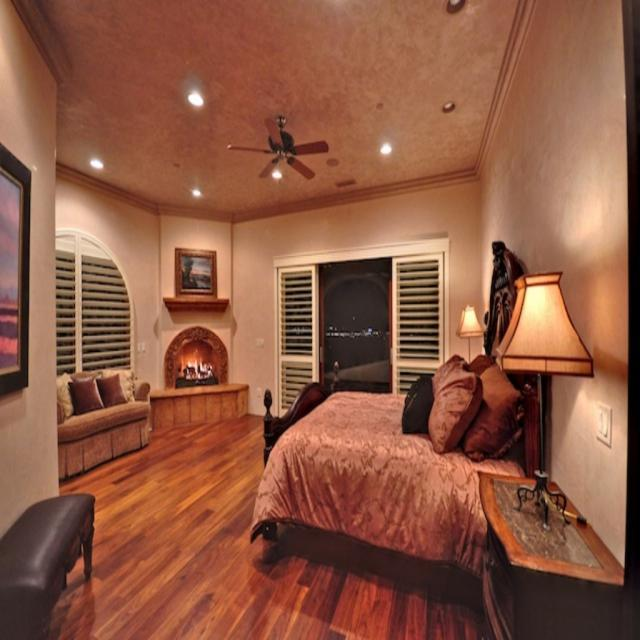fan_off: (233, 128, 329, 182)
